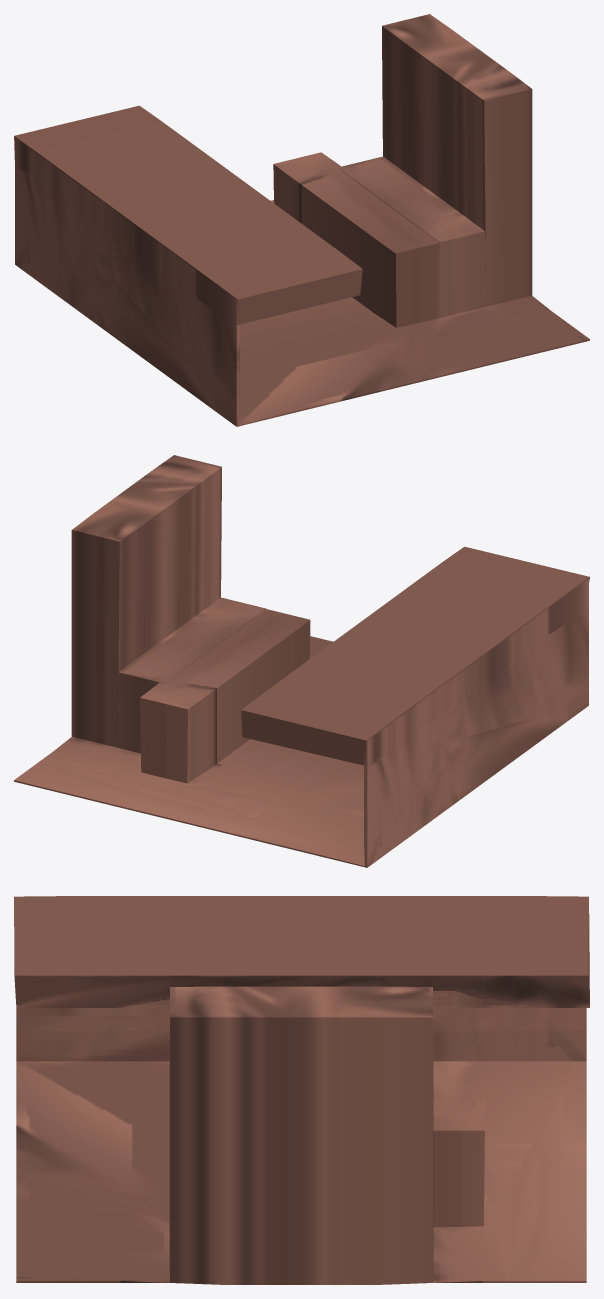
The model's file is LibrarianChair.fbx.
The picture shows the model from 3 angles, top to bottom: view 1: azimuth 30°, elevation 25°; view 2: azimuth 150°, elevation 25°; view 3: azimuth 270°, elevation 25°; orthographic projection. The views are drawn at different scales.
Visible parts, largest first — view 1: Cube; view 2: Cube; view 3: Cube.
Boxes of the visible parts, <box> form: Cube: <box>14,14,589,426</box>; Cube: <box>14,455,589,867</box>; Cube: <box>14,896,589,1284</box>.
Size of the model in its own units: 245 by 136 by 266.
1 material, 1 textured.
